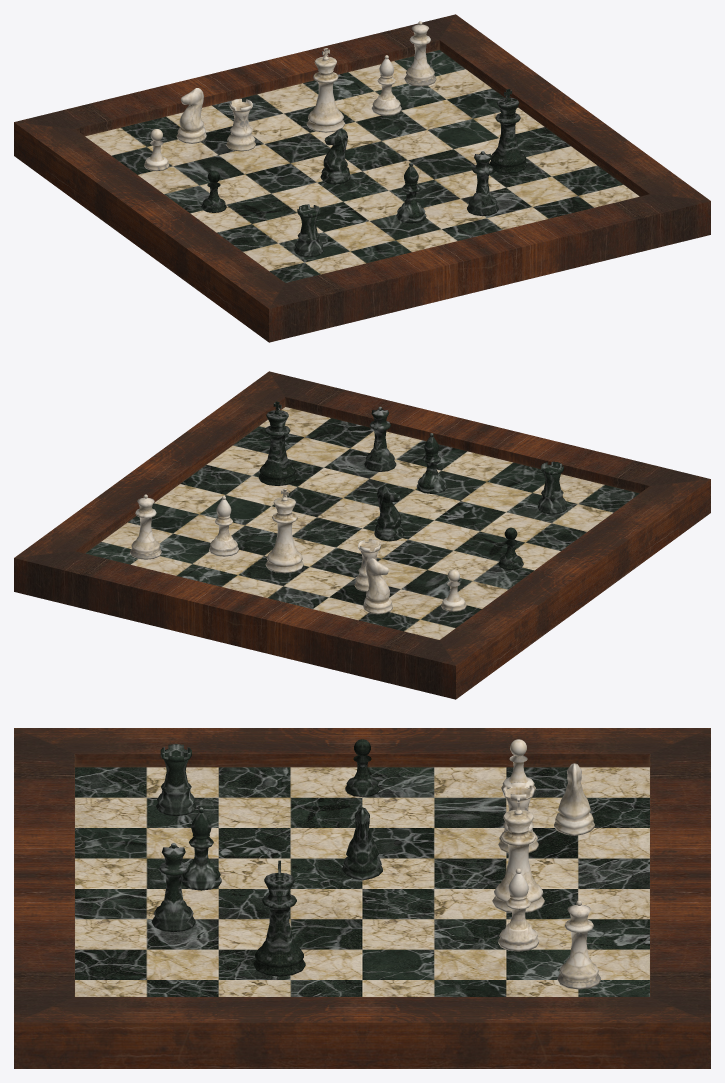
Rendered from decorative_chess.glb.
3 renders of one model, top to bottom at view 1: azimuth 30°, elevation 25°; view 2: azimuth 150°, elevation 25°; view 3: azimuth 270°, elevation 25°, orthographic. The views are drawn at different scales.
Parts seen in each view (by area): view 1: chessPlane, chessPlane.001, king.001, king, queen, horse.001, queen.001, horse, tower, tower.001, messenger.001, messenger (+2 smaller); view 2: chessPlane, chessPlane.001, king.001, king, queen, queen.001, horse, horse.001, tower, messenger, messenger.001, tower.001 (+2 smaller); view 3: chessPlane.001, chessPlane, king, king.001, queen, queen.001, tower, messenger.001, messenger, horse, horse.001, pawn (+2 smaller).
Boxes of the visible parts, <box> form: chessPlane: <box>14,14,710,342</box>; chessPlane.001: <box>85,50,639,282</box>; king.001: <box>306,56,344,132</box>; king: <box>489,97,527,173</box>; queen: <box>467,151,498,216</box>; horse.001: <box>176,88,206,143</box>; queen.001: <box>404,21,436,86</box>; horse: <box>320,128,350,184</box>; tower: <box>294,204,323,257</box>; tower.001: <box>226,98,255,151</box>; messenger.001: <box>371,55,401,115</box>; messenger: <box>396,162,426,223</box>; chessPlane: <box>14,371,710,699</box>; chessPlane.001: <box>85,407,639,639</box>; king.001: <box>265,497,303,573</box>; king: <box>258,410,296,485</box>; queen: <box>364,406,396,471</box>; queen.001: <box>130,494,161,559</box>; horse: <box>374,485,404,541</box>; horse.001: <box>363,558,392,614</box>; tower: <box>537,461,566,514</box>; messenger: <box>416,433,446,493</box>; messenger.001: <box>209,496,238,556</box>; tower.001: <box>354,539,380,591</box>; chessPlane.001: <box>75,767,649,996</box>; chessPlane: <box>14,728,710,1068</box>; king: <box>253,873,305,976</box>; king.001: <box>492,809,544,912</box>; queen: <box>152,843,195,932</box>; queen.001: <box>557,900,600,989</box>; tower: <box>156,744,196,816</box>; messenger.001: <box>498,868,538,951</box>; messenger: <box>181,807,221,890</box>; horse: <box>342,807,382,880</box>; horse.001: <box>554,763,594,835</box>; pawn: <box>345,739,379,796</box>.
Bounding box in the file's own units: 2 × 0.4319 × 2.
Materials: 1 (1 with a texture image).
